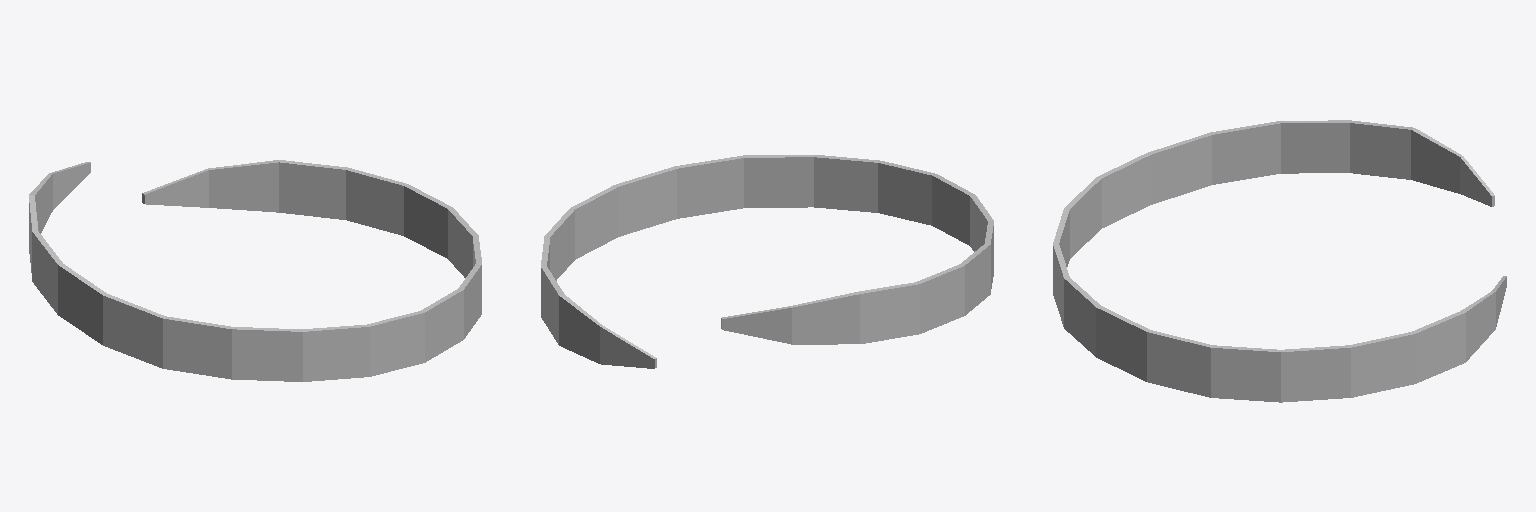
Rendered from windTest.obj.
The picture shows the model from 3 angles: view 1: azimuth 30°, elevation 25°; view 2: azimuth 150°, elevation 25°; view 3: azimuth 270°, elevation 25°; orthographic projection.
Parts seen in each view (by area): view 1: pCylinder1; view 2: pCylinder1; view 3: pCylinder1.
Boxes of the visible parts, <box> form: pCylinder1: <box>29,160,481,381</box>; pCylinder1: <box>541,155,993,368</box>; pCylinder1: <box>1053,120,1506,402</box>.
Bounding box in the file's own units: 2.06 × 0.5 × 2.05.